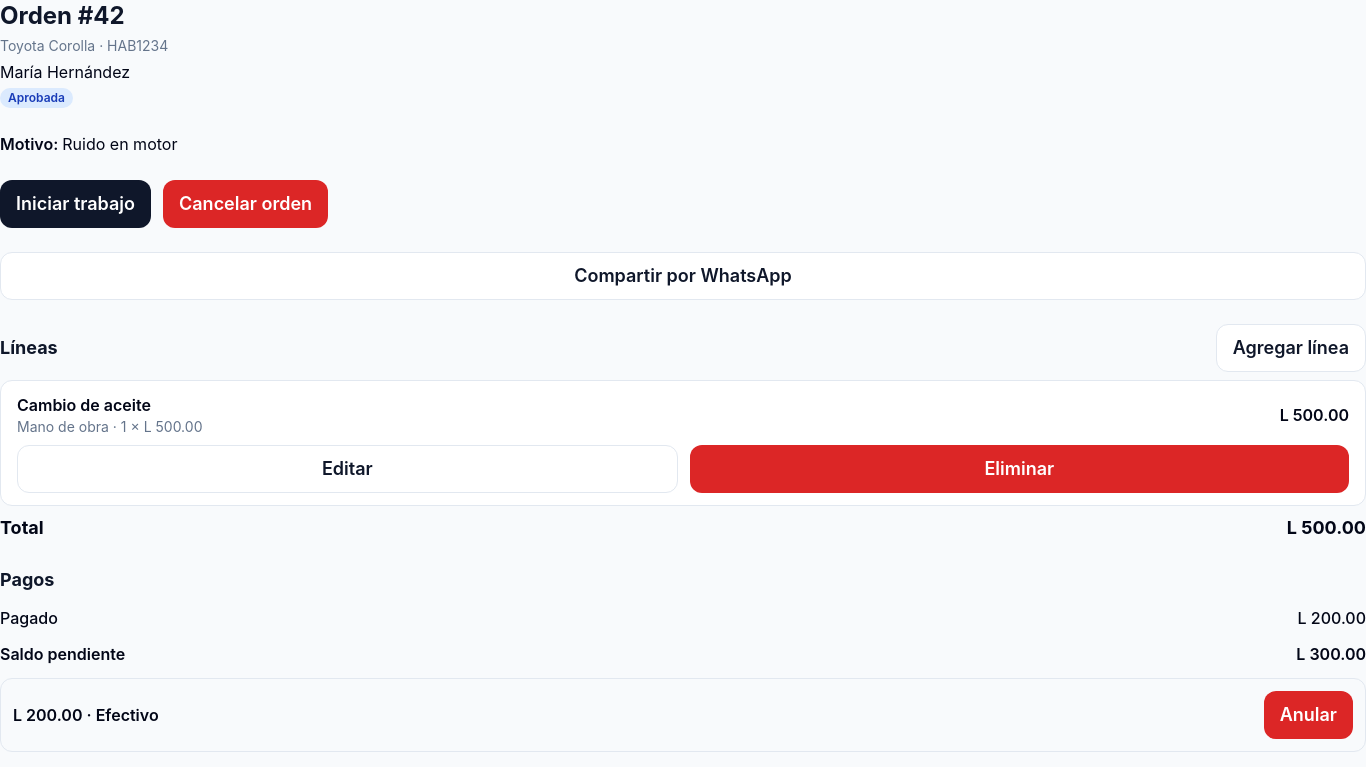
Test case: WorkOrderDetailPage › maps a 404 payment_not_found to its own Spanish message when voiding a payment
The image size is (1366, 767).
Click the button "Anular" at x=1308, y=715, box [1264,691,1353,739]
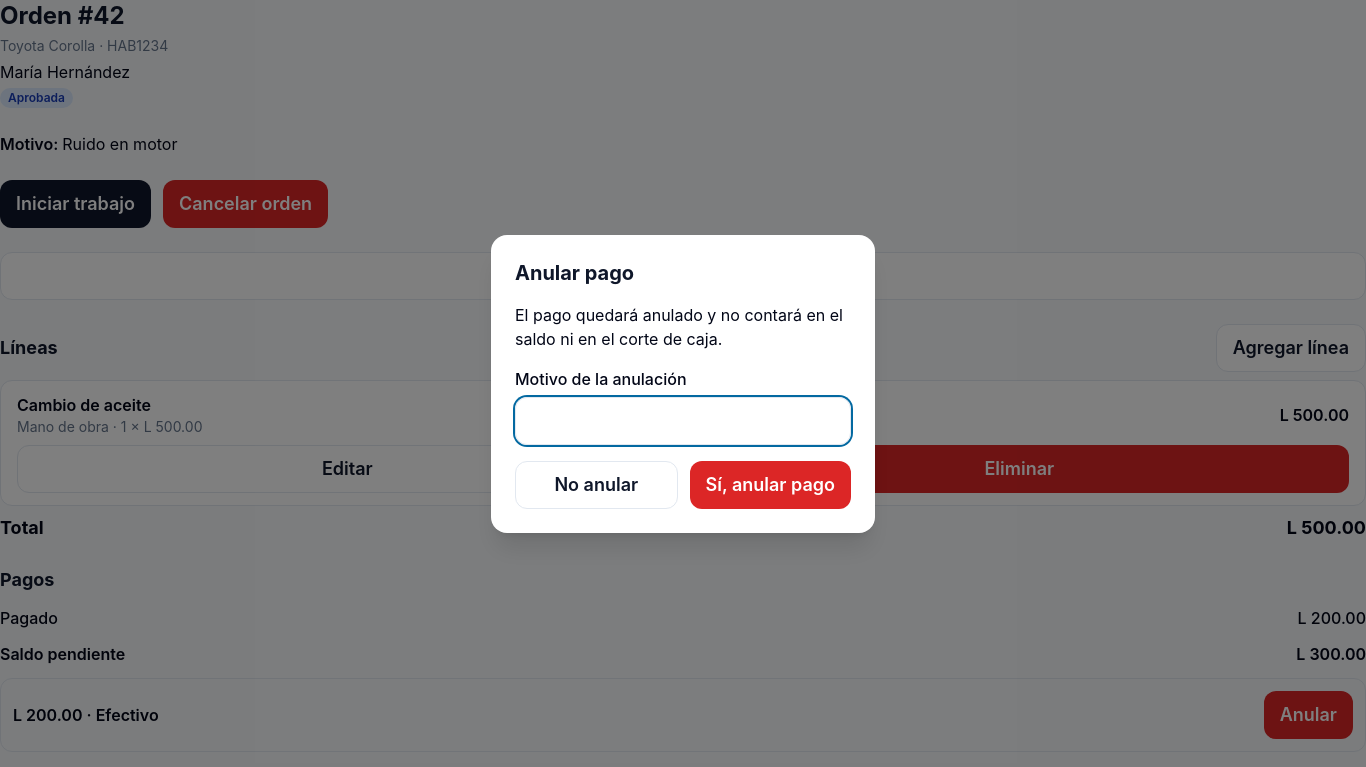
Type "Pago duplicado" into the field labelled "Motivo de la anulación" at x=683, y=421, box [515,397,851,445]
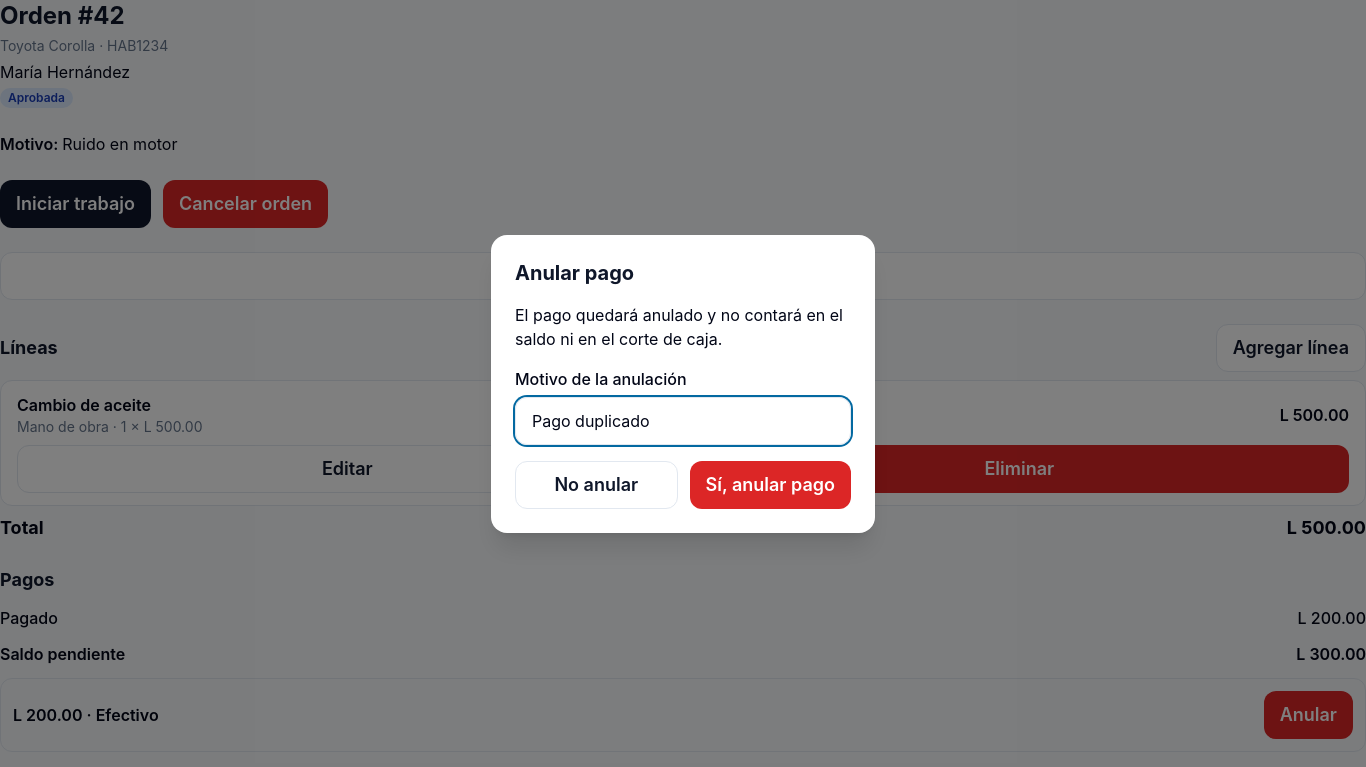
Click the button "Sí, anular pago" at x=770, y=485, box [690,461,851,509]
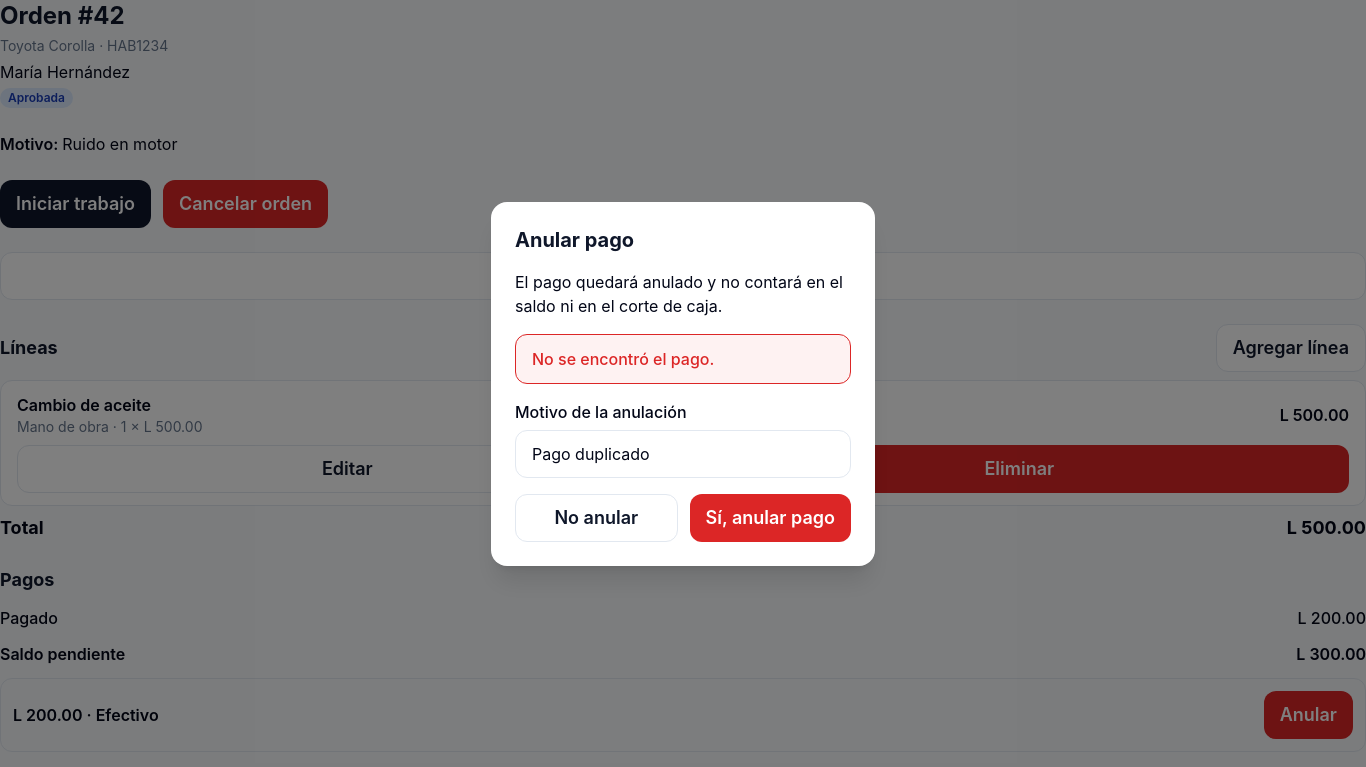
Now the text "No se encontró el pago." is shown, box [515,334,851,384]
